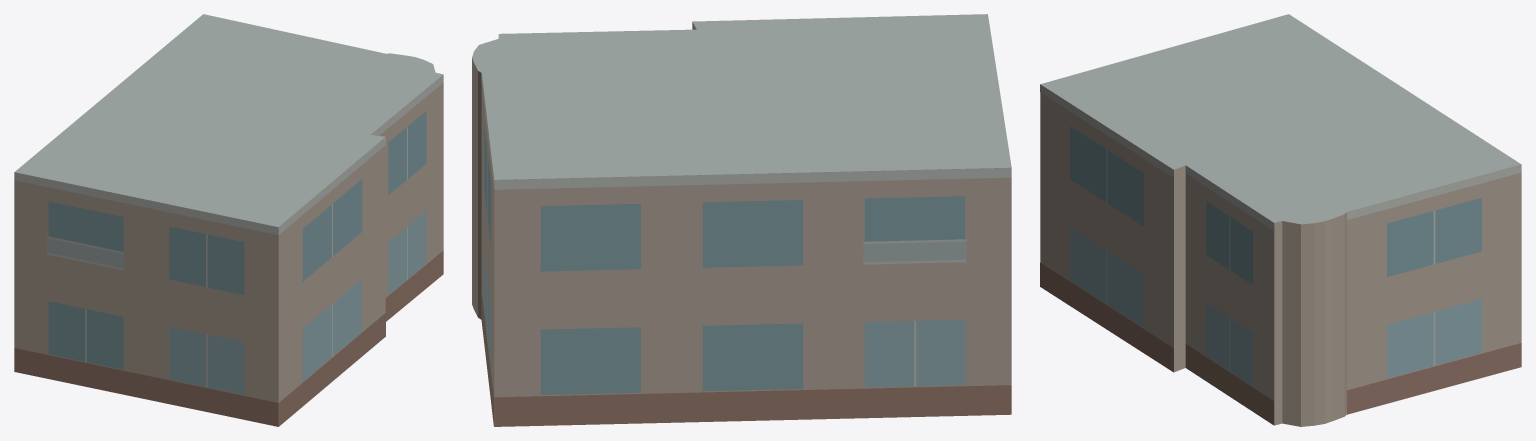
The model's file is survey-upis-32852406.glb.
The picture shows the model from 3 angles, left to right: view 1: azimuth 30°, elevation 25°; view 2: azimuth 150°, elevation 25°; view 3: azimuth 270°, elevation 25°; orthographic projection. The views are drawn at different scales.
Parts seen in each view (by area): view 1: survey-upis-32852406.tmp; view 2: survey-upis-32852406.tmp; view 3: survey-upis-32852406.tmp.
Boxes of the visible parts, bbox=[...] form: survey-upis-32852406.tmp: bbox=[14, 14, 443, 426]; survey-upis-32852406.tmp: bbox=[472, 14, 1011, 426]; survey-upis-32852406.tmp: bbox=[1040, 14, 1521, 426].
Size of the model in its own units: 13.59 by 6.1 by 13.15.
